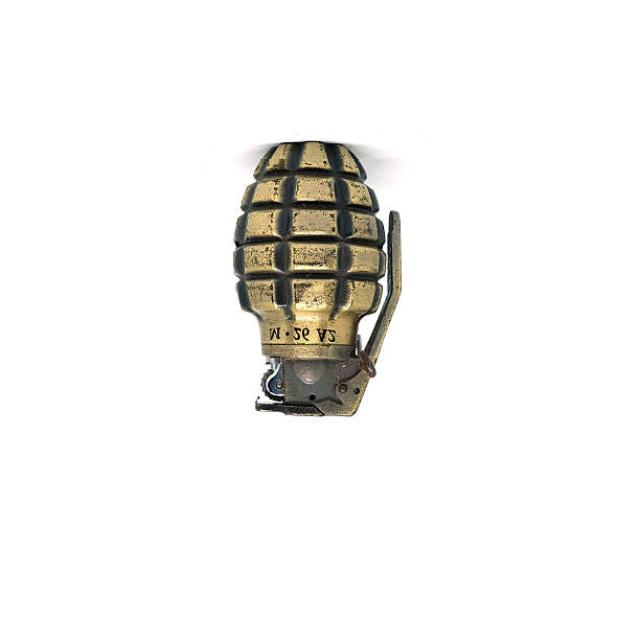grenade: (229, 139, 412, 422)
